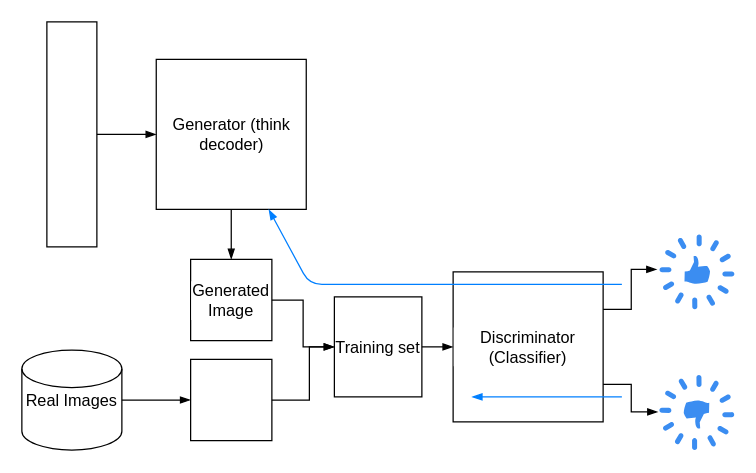
This 756x473 diagram has some shape labels left out. Here are the shapes that lost their labels. From the top down, the centre of each, then its label:
At [71,134]: "Random Noise".
At [230,399]: "Real Image".
